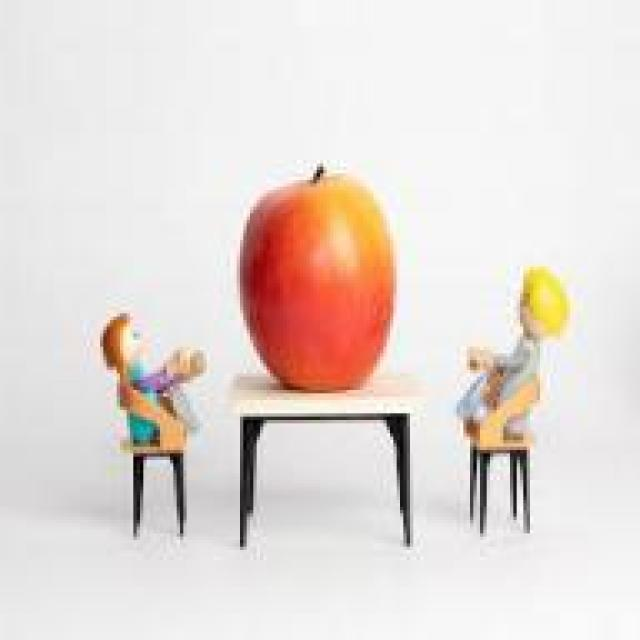apple: (237, 174, 400, 384)
